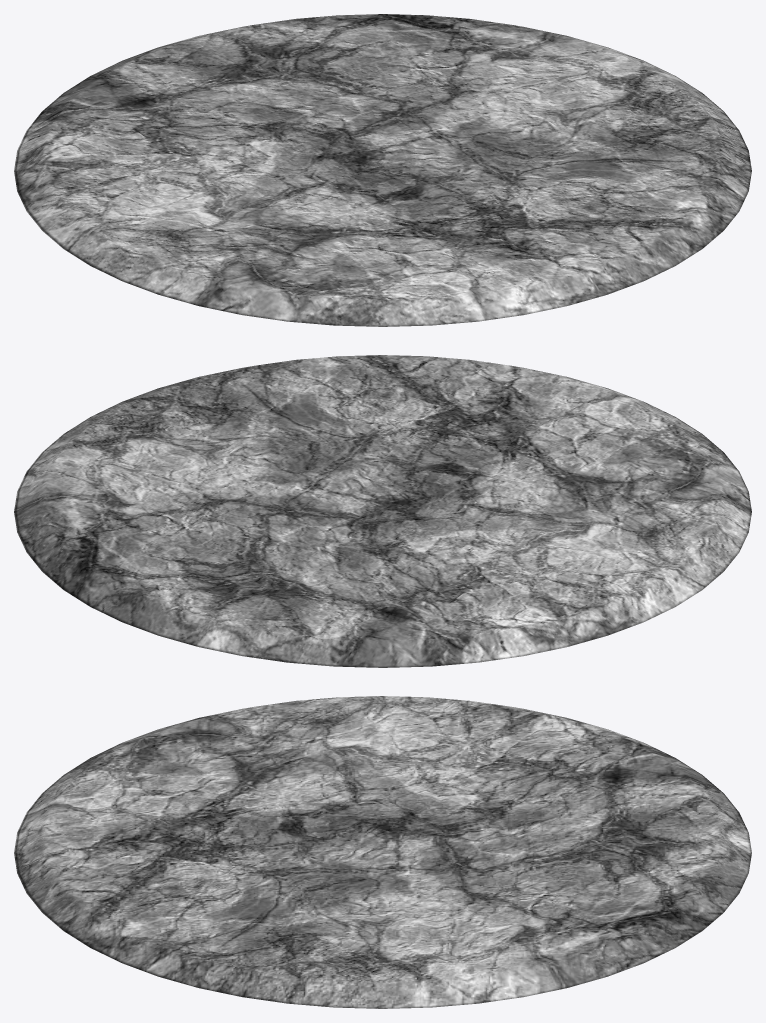
File: ground2.FBX
The picture shows the model from 3 angles, top to bottom: view 1: azimuth 30°, elevation 25°; view 2: azimuth 150°, elevation 25°; view 3: azimuth 270°, elevation 25°; orthographic projection.
Visible parts, largest first — view 1: Cone001; view 2: Cone001; view 3: Cone001.
Part boxes in pixels (x1,y1,x2,y2): Cone001: (14, 14, 751, 326); Cone001: (14, 355, 751, 667); Cone001: (14, 696, 751, 1008).
Bounding box in the file's own units: 1546 × 39.37 × 1546.
